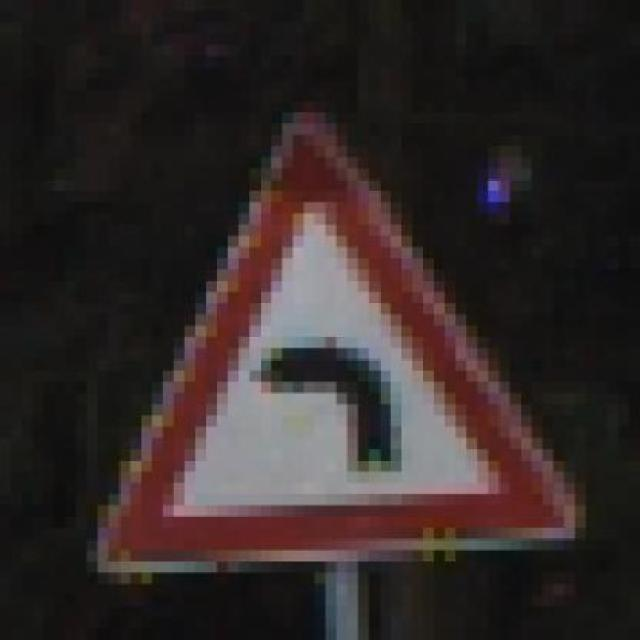Dangerous Left Curve Ahead: (65, 78, 597, 572)
